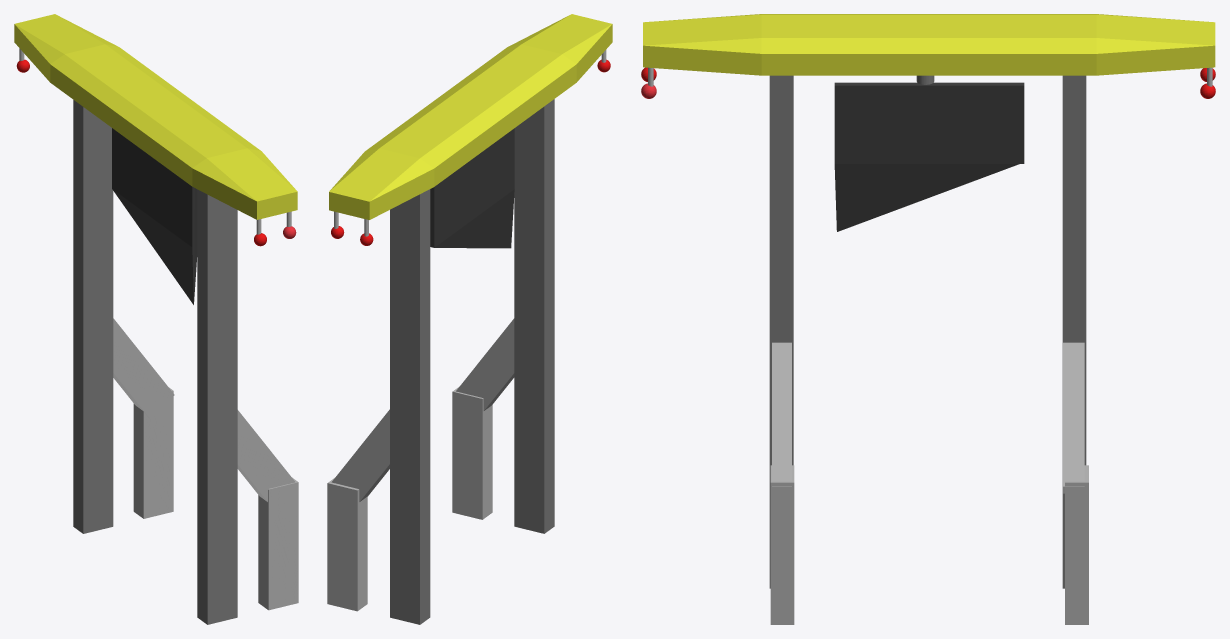
3 views of the same model, side by side, from view 1: azimuth 30°, elevation 25°; view 2: azimuth 150°, elevation 25°; view 3: azimuth 270°, elevation 25° (orthographic). The views are drawn at different scales.
Visible parts, largest first — view 1: 立方体.001, 立方体, 立方体.003, 立方体.002, 立方体.004, 立方体.005, 立方体.007, 立方体.006; view 2: 立方体.001, 立方体.003, 立方体, 立方体.002, 立方体.005, 立方体.004, 立方体.006, 立方体.007; view 3: 立方体.001, 立方体.002, 立方体, 立方体.003, 立方体.004, 立方体.005, 立方体.007, 立方体.006.
Boxes of the visible parts, x1,y1,x2,y2 form: 立方体.001: (14, 14, 297, 219); 立方体: (197, 189, 237, 624); 立方体.003: (73, 100, 113, 533); 立方体.002: (112, 128, 197, 304); 立方体.004: (258, 477, 298, 610); 立方体.005: (133, 387, 173, 518); 立方体.007: (113, 318, 174, 418); 立方体.006: (237, 410, 295, 501); 立方体.001: (329, 14, 612, 219); 立方体.003: (390, 189, 430, 624); 立方体: (514, 99, 554, 533); 立方体.002: (430, 128, 514, 248); 立方体.005: (327, 478, 367, 611); 立方体.004: (452, 386, 492, 519); 立方体.006: (456, 318, 514, 410); 立方体.007: (331, 409, 389, 501); 立方体.001: (643, 14, 1215, 75); 立方体.002: (834, 82, 1024, 231); 立方体: (769, 75, 793, 588); 立方体.003: (1062, 75, 1086, 588); 立方体.004: (770, 465, 794, 624); 立方体.005: (1065, 465, 1088, 624); 立方体.007: (1063, 342, 1084, 493); 立方体.006: (772, 342, 791, 486).
Size of the model in its own units: 7.33 by 29.92 by 28.06.
